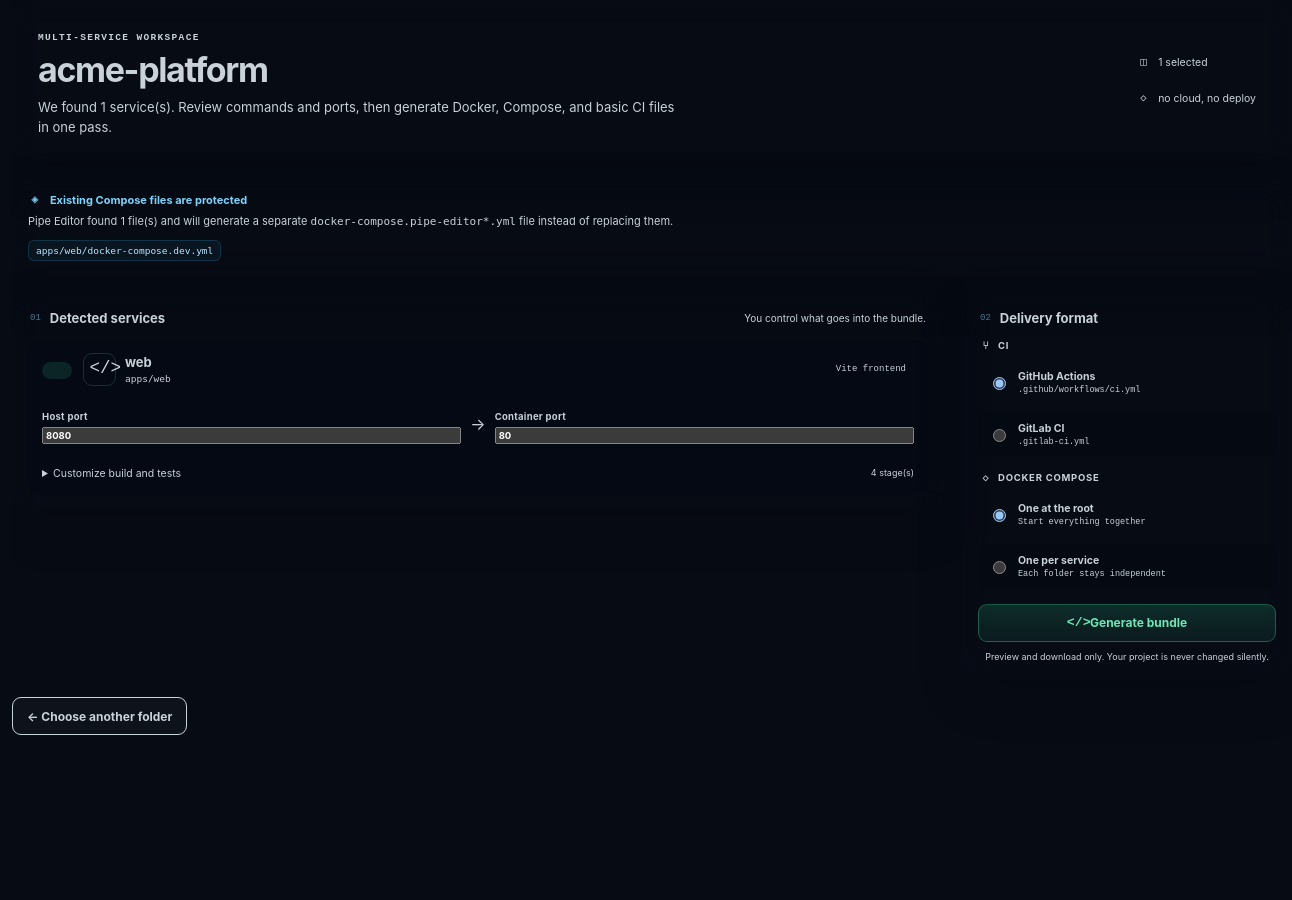
Scenario: T-WORKSPACE-104 (UX-04) — port fields › refuses 0 on blur and restores the last good value
Replace the text in the field named "web host port" with "0" at (252, 435), box [42, 427, 461, 444]
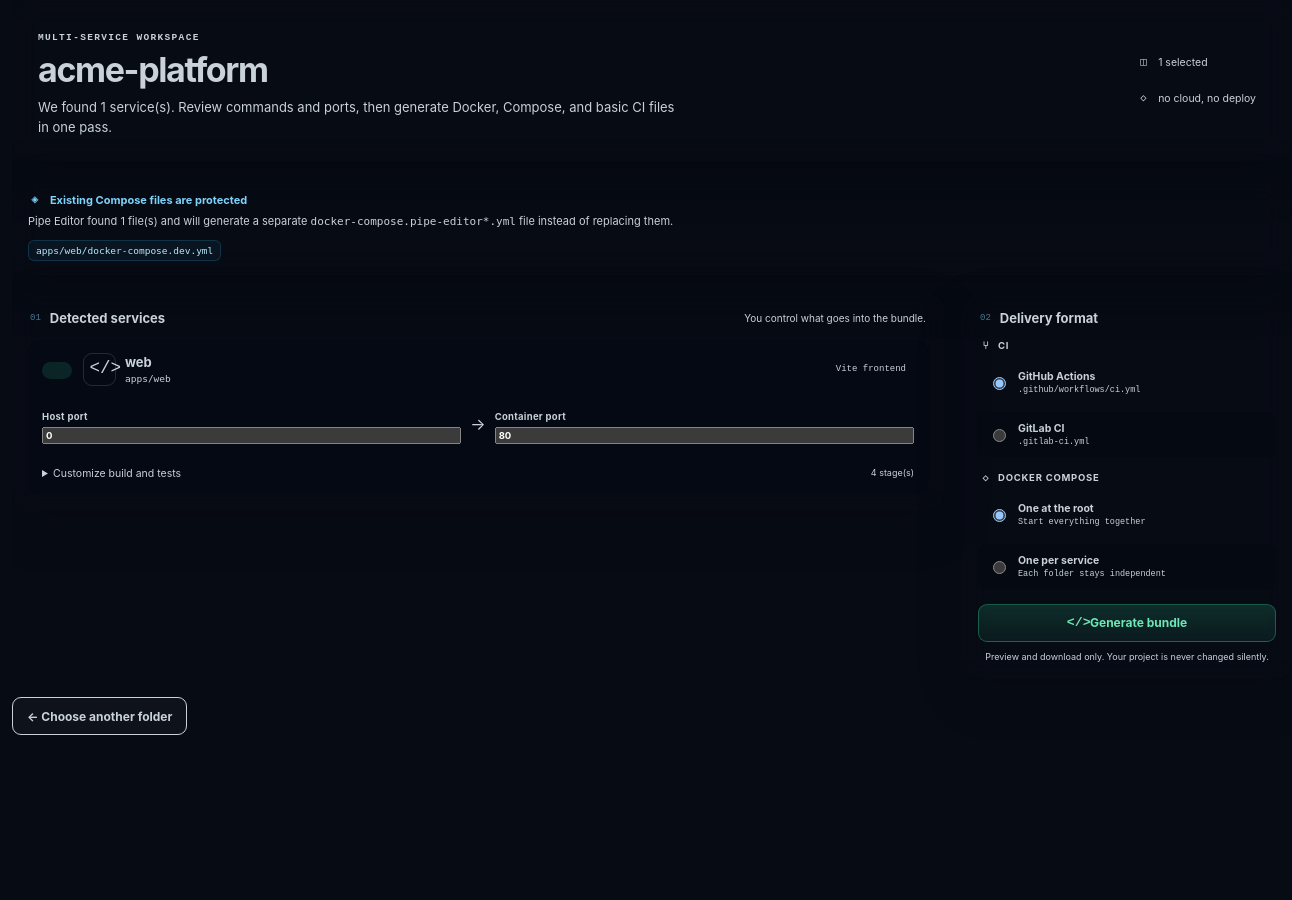
Leave the field named "web host port", box [42, 427, 461, 444]
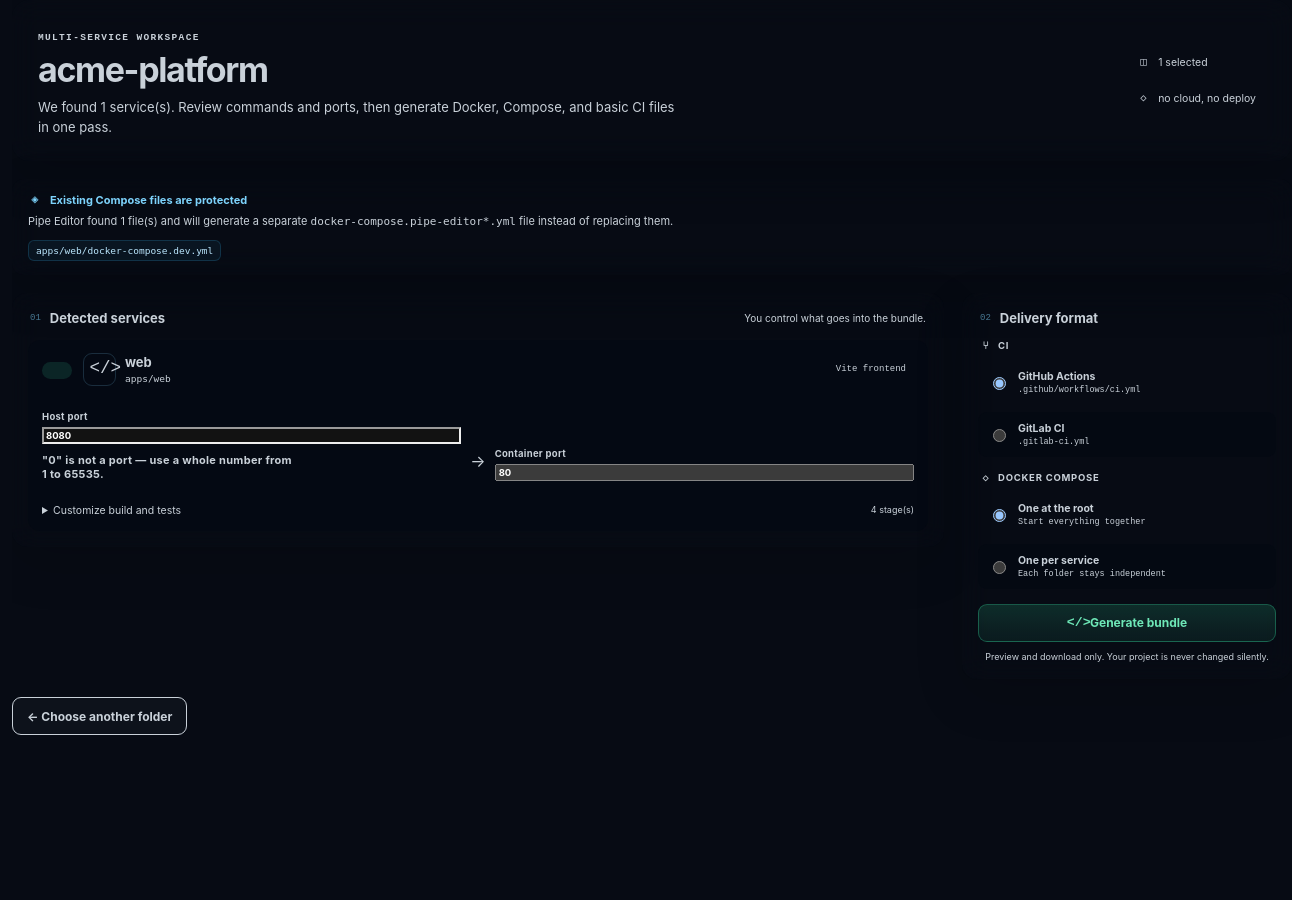
expect the message "\"0\" is not a port — use a whole number from 1 to 65535." is shown: met, box [42, 453, 298, 481]
expect the field named "web host port" holds "8080": met, box [42, 427, 461, 444]
